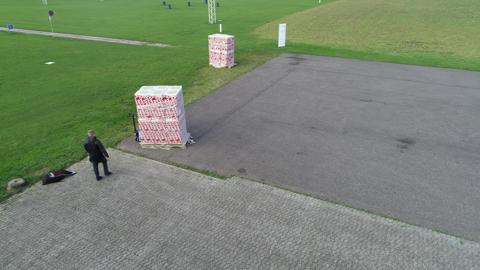RockwoolPallet: (134, 84, 190, 148)
